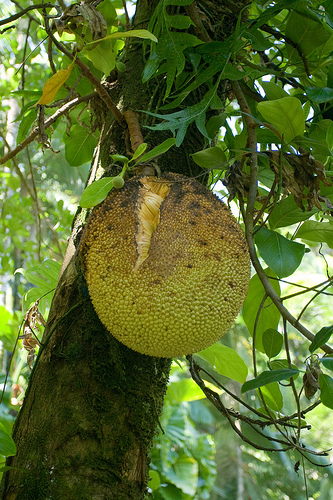jackfruit: (78, 107, 251, 360)
